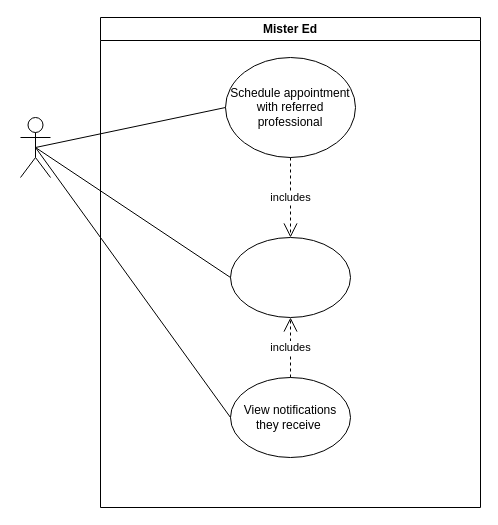
This 498x525 diagram has some shape labels left out. Here are the shapes that lost their labels. From the top down, the centre of each, then its label:
At point 35,147: "Patient".
At point 290,277: "Sign in using PHN and email address".
